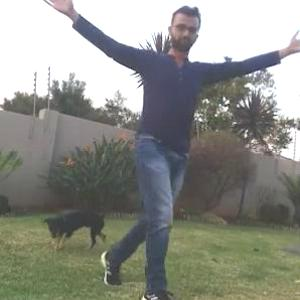takeoff: (52, 4, 282, 269)
